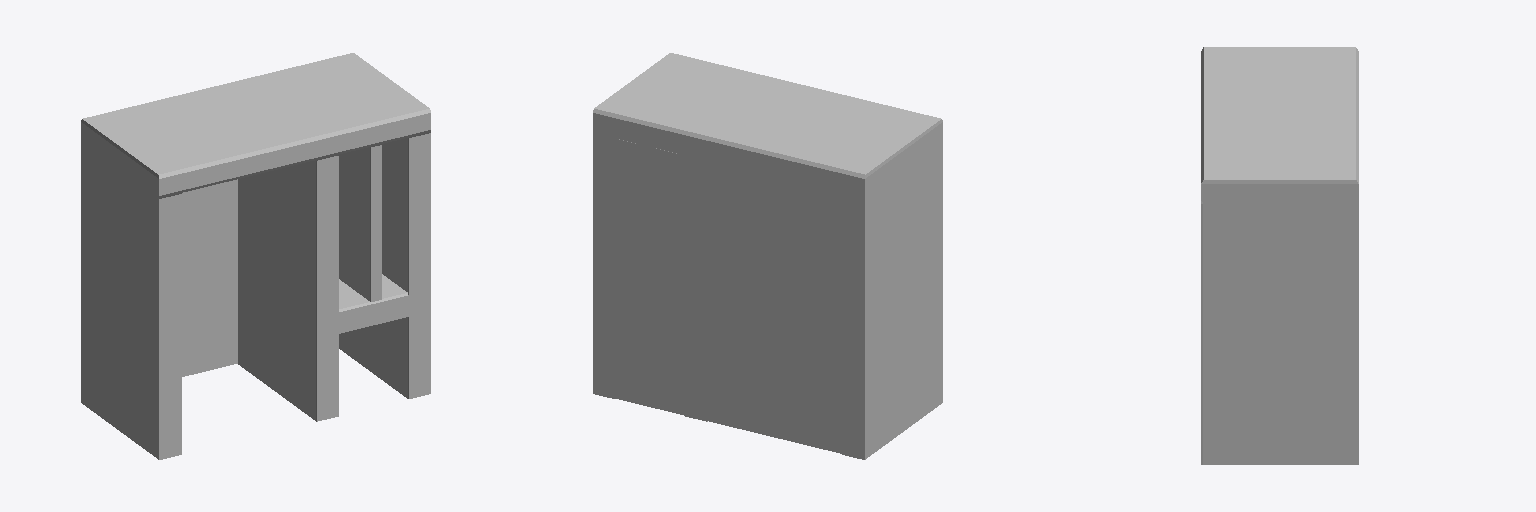
File: Desk.obj
3 views of the same model, side by side, from view 1: azimuth 30°, elevation 25°; view 2: azimuth 150°, elevation 25°; view 3: azimuth 270°, elevation 25° (orthographic).
Parts seen in each view (by area): view 1: Desks; view 2: Desks; view 3: Desks.
Part boxes in pixels (left/top/right/bottom): Desks: left=81, top=53, right=430, bottom=459; Desks: left=593, top=53, right=942, bottom=459; Desks: left=1201, top=47, right=1358, bottom=464.
Size of the model in its own units: 1.2 by 1.2 by 0.6002.